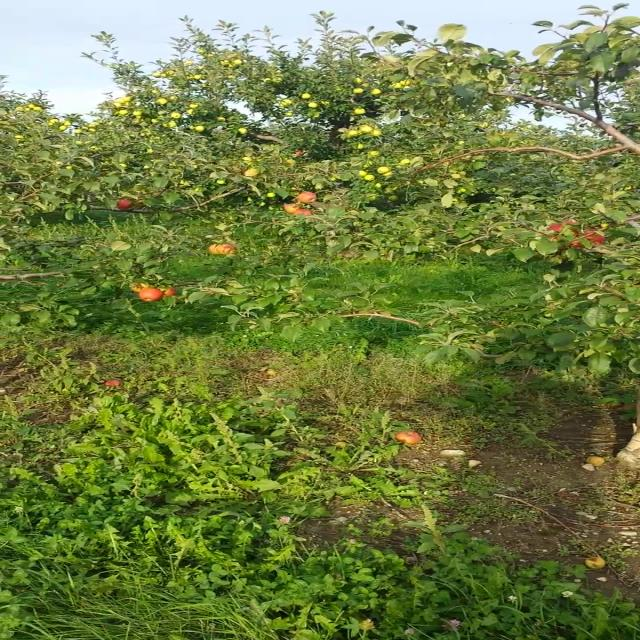apple: (208, 241, 238, 256), (139, 288, 163, 302), (137, 289, 163, 301), (583, 229, 605, 243), (206, 244, 236, 254), (129, 282, 155, 292), (584, 557, 606, 568), (296, 190, 316, 202), (117, 198, 134, 211), (156, 286, 176, 296), (116, 198, 132, 208), (284, 203, 300, 213), (293, 207, 313, 215), (546, 222, 562, 232), (163, 288, 177, 299), (568, 238, 582, 248), (353, 142, 366, 151), (358, 125, 374, 132), (328, 175, 346, 181), (363, 193, 378, 200), (162, 121, 176, 128), (345, 131, 358, 138), (282, 159, 297, 165), (266, 192, 278, 199), (398, 160, 412, 166), (157, 98, 168, 105), (364, 175, 376, 181), (376, 167, 388, 173), (370, 131, 382, 137), (476, 122, 488, 128), (386, 195, 398, 201), (368, 151, 380, 157), (216, 178, 226, 185), (241, 156, 251, 163), (372, 89, 382, 96), (354, 108, 365, 114), (307, 102, 318, 108), (237, 128, 248, 134), (189, 103, 200, 109), (384, 172, 397, 177), (351, 88, 364, 93), (353, 78, 366, 83), (178, 181, 191, 186), (302, 93, 312, 99), (280, 100, 292, 105), (284, 111, 296, 116), (398, 80, 410, 85), (360, 83, 372, 88), (403, 84, 413, 90), (186, 109, 196, 115), (118, 110, 128, 116), (152, 72, 162, 78), (232, 60, 244, 65), (458, 140, 468, 146), (170, 113, 181, 118), (196, 126, 205, 132), (372, 183, 382, 188), (183, 60, 193, 65), (204, 53, 214, 58), (169, 95, 177, 101), (124, 96, 132, 102), (13, 135, 25, 139), (150, 90, 162, 94), (226, 64, 238, 68), (89, 147, 101, 151), (116, 98, 125, 103), (143, 164, 152, 169), (458, 171, 467, 176), (390, 84, 401, 88), (167, 70, 174, 76), (358, 172, 366, 177), (194, 188, 204, 192), (216, 117, 226, 121), (152, 118, 160, 123), (134, 111, 142, 116), (58, 126, 68, 130), (90, 128, 98, 133), (81, 126, 89, 131), (16, 106, 24, 111), (262, 78, 272, 82), (274, 78, 284, 82), (459, 188, 467, 193), (454, 189, 460, 195), (113, 103, 122, 107), (50, 119, 59, 123), (87, 124, 96, 128), (162, 73, 168, 79), (220, 60, 229, 64), (75, 141, 84, 145), (146, 150, 155, 154), (195, 75, 202, 80), (135, 115, 143, 119), (74, 129, 82, 133), (92, 122, 100, 126), (34, 107, 42, 111), (27, 104, 35, 108), (188, 76, 196, 80), (227, 76, 235, 80), (120, 163, 128, 167), (189, 126, 196, 130), (140, 132, 147, 136), (64, 122, 72, 125), (24, 107, 30, 111), (198, 50, 204, 54), (66, 166, 72, 170), (84, 140, 90, 144), (88, 134, 94, 137)
